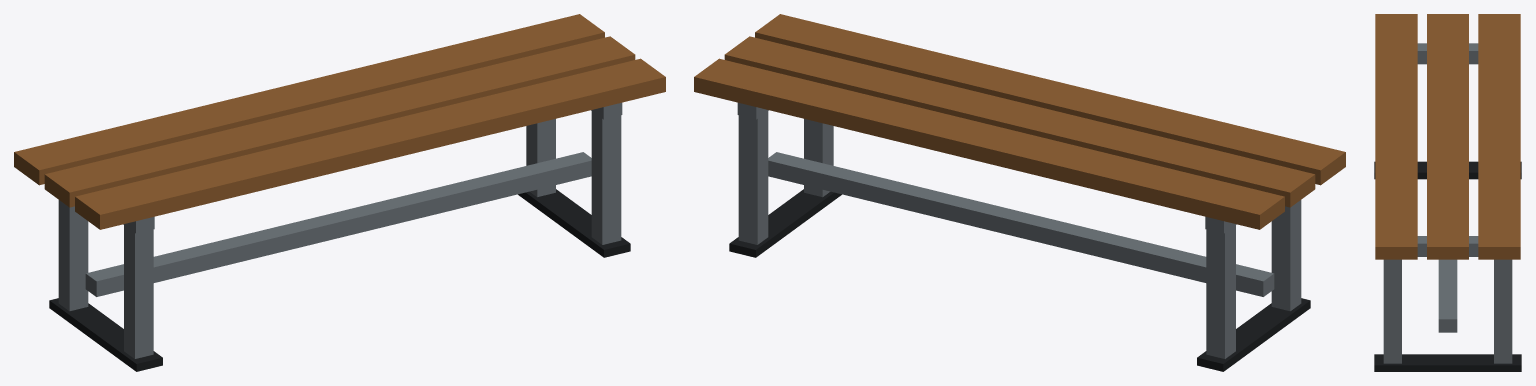
File: SM_CorridorBench_Realistic.obj
3 views of the same model, side by side, from view 1: azimuth 30°, elevation 25°; view 2: azimuth 150°, elevation 25°; view 3: azimuth 270°, elevation 25° (orthographic). The views are drawn at different scales.
Parts seen in each view (by area): view 1: Slat0, Slat1, Slat2, Stretcher, LegFront1, LegFront-1, LegBack-1, Foot-1, Foot1, LegBack1; view 2: Slat2, Slat1, Slat0, Stretcher, LegBack1, LegBack-1, LegFront-1, Foot-1, Foot1, LegFront1; view 3: Slat0, Slat2, Slat1, Foot1, LegFront1, LegBack1, Stretcher, Foot-1, LegTopRail-1, LegTopRail1.
Part boxes in pixels (<box>): Slat0: <box>75,58,665,229</box>; Slat1: <box>44,36,635,207</box>; Slat2: <box>14,14,604,185</box>; Stretcher: <box>85,152,591,296</box>; LegFront1: <box>591,107,621,244</box>; LegFront-1: <box>124,221,153,358</box>; LegBack-1: <box>58,200,88,311</box>; Foot-1: <box>49,298,162,371</box>; Foot1: <box>518,189,630,257</box>; LegBack1: <box>526,119,555,197</box>; Slat2: <box>694,58,1284,229</box>; Slat1: <box>724,36,1315,207</box>; Slat0: <box>755,14,1345,185</box>; Stretcher: <box>768,152,1274,296</box>; LegBack1: <box>738,107,768,244</box>; LegBack-1: <box>1206,225,1235,358</box>; LegFront-1: <box>1271,200,1301,311</box>; Foot-1: <box>1197,298,1310,371</box>; Foot1: <box>729,189,841,257</box>; LegFront1: <box>804,119,833,197</box>; Slat0: <box>1375,14,1417,259</box>; Slat2: <box>1478,14,1520,259</box>; Slat1: <box>1427,14,1468,259</box>; Foot1: <box>1374,354,1521,371</box>; LegFront1: <box>1383,259,1401,363</box>; LegBack1: <box>1494,259,1512,363</box>; Stretcher: <box>1438,259,1457,332</box>; Foot-1: <box>1374,161,1521,179</box>; LegTopRail-1: <box>1417,43,1478,64</box>; LegTopRail1: <box>1417,236,1478,256</box>.
Size of the model in its own units: 1.5 by 0.419 by 0.4.
